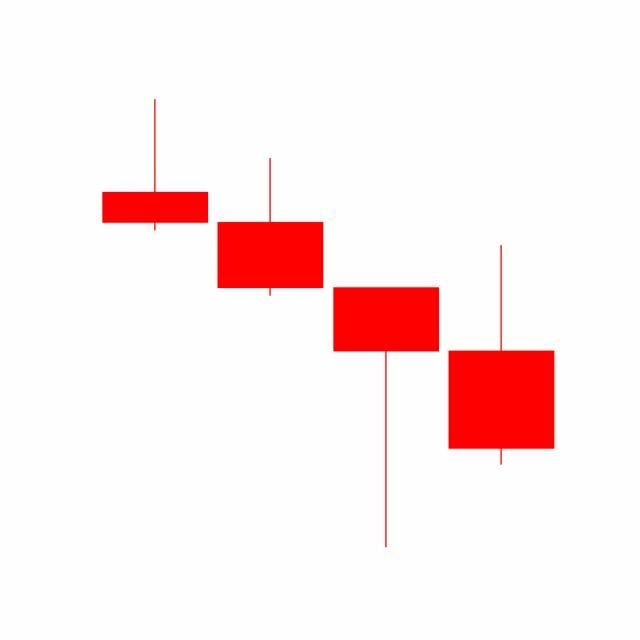Hammer: (329, 286, 445, 552)
